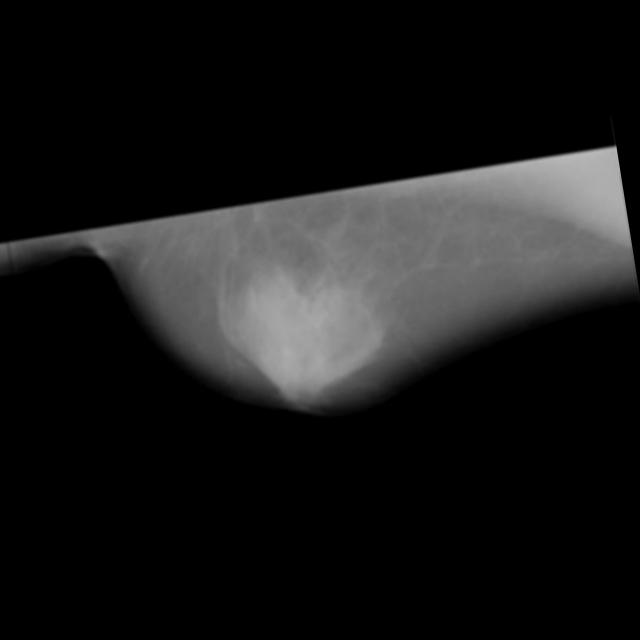ARCH: (274, 277, 334, 337)
